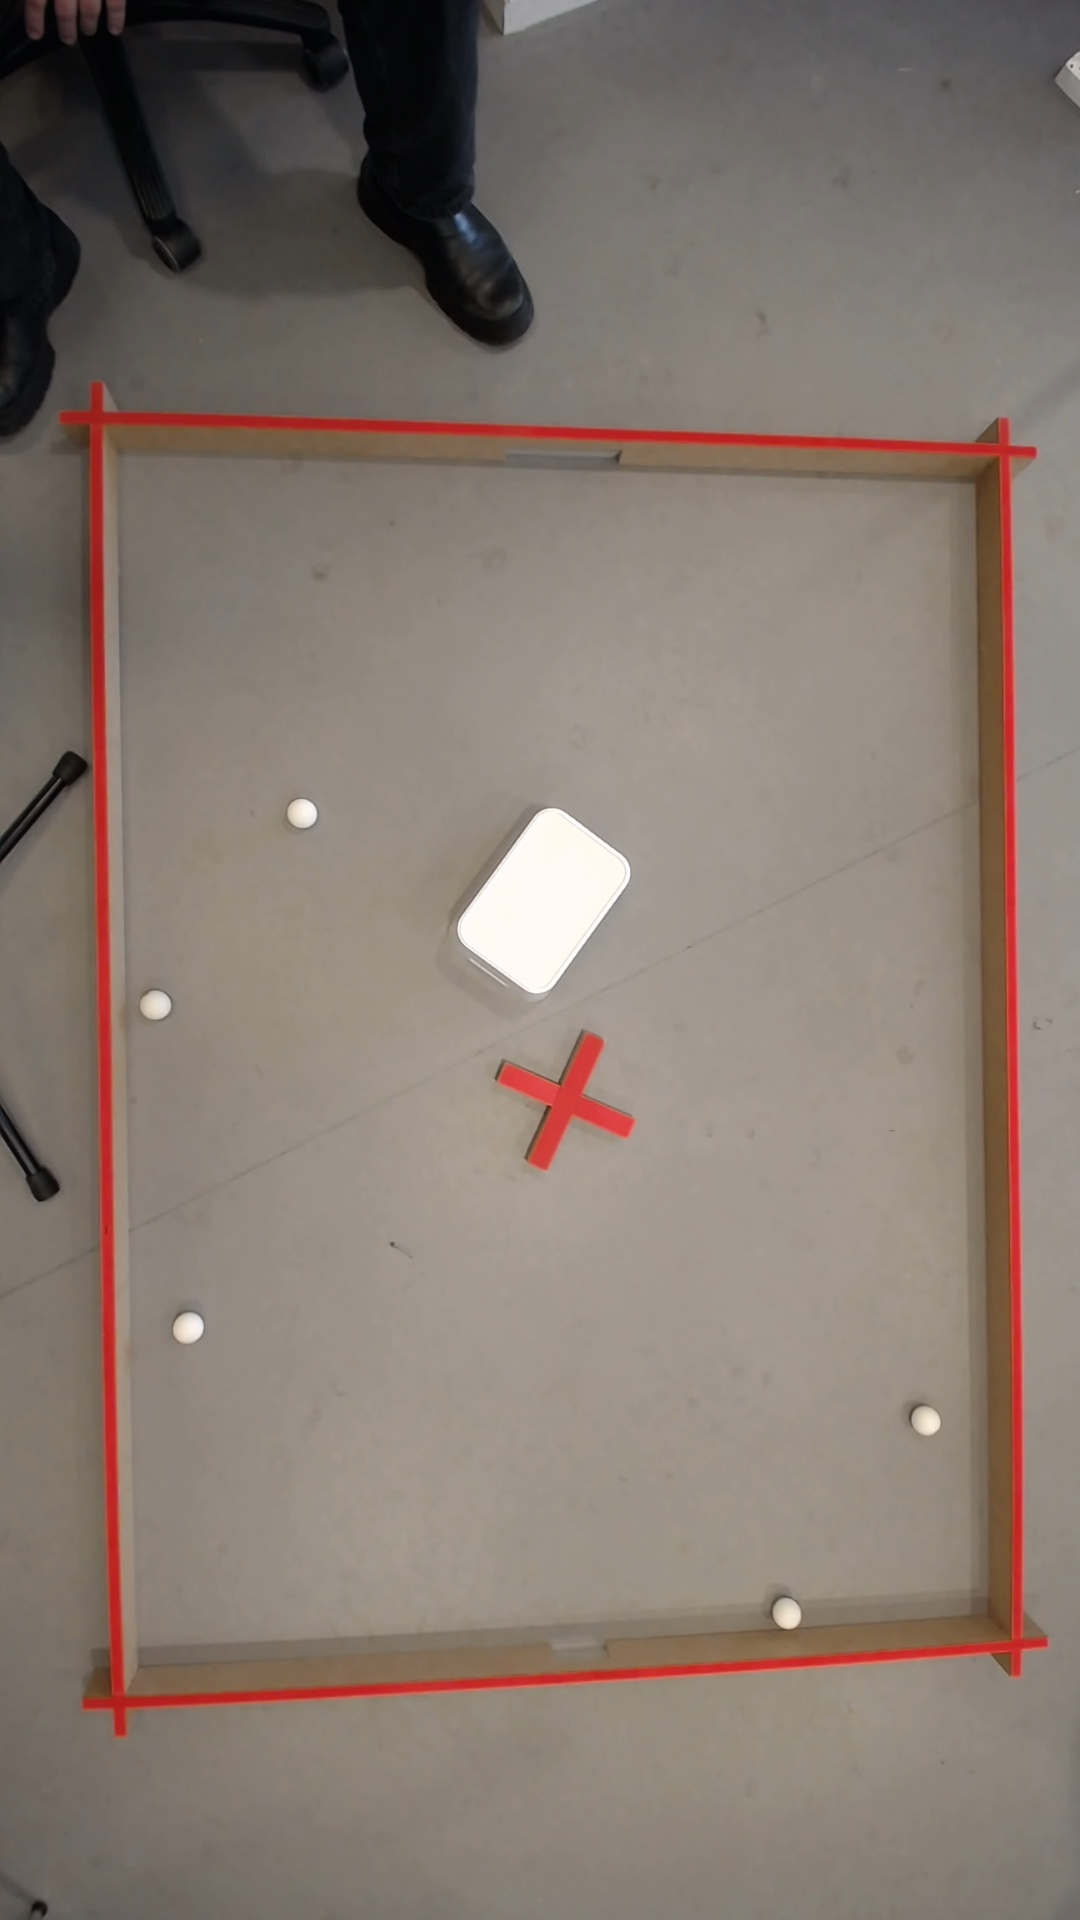balls: (446, 798, 640, 1002), (171, 1308, 207, 1346), (285, 794, 322, 829), (140, 988, 174, 1021), (778, 1602, 800, 1627)
car: (911, 1404, 944, 1437)
